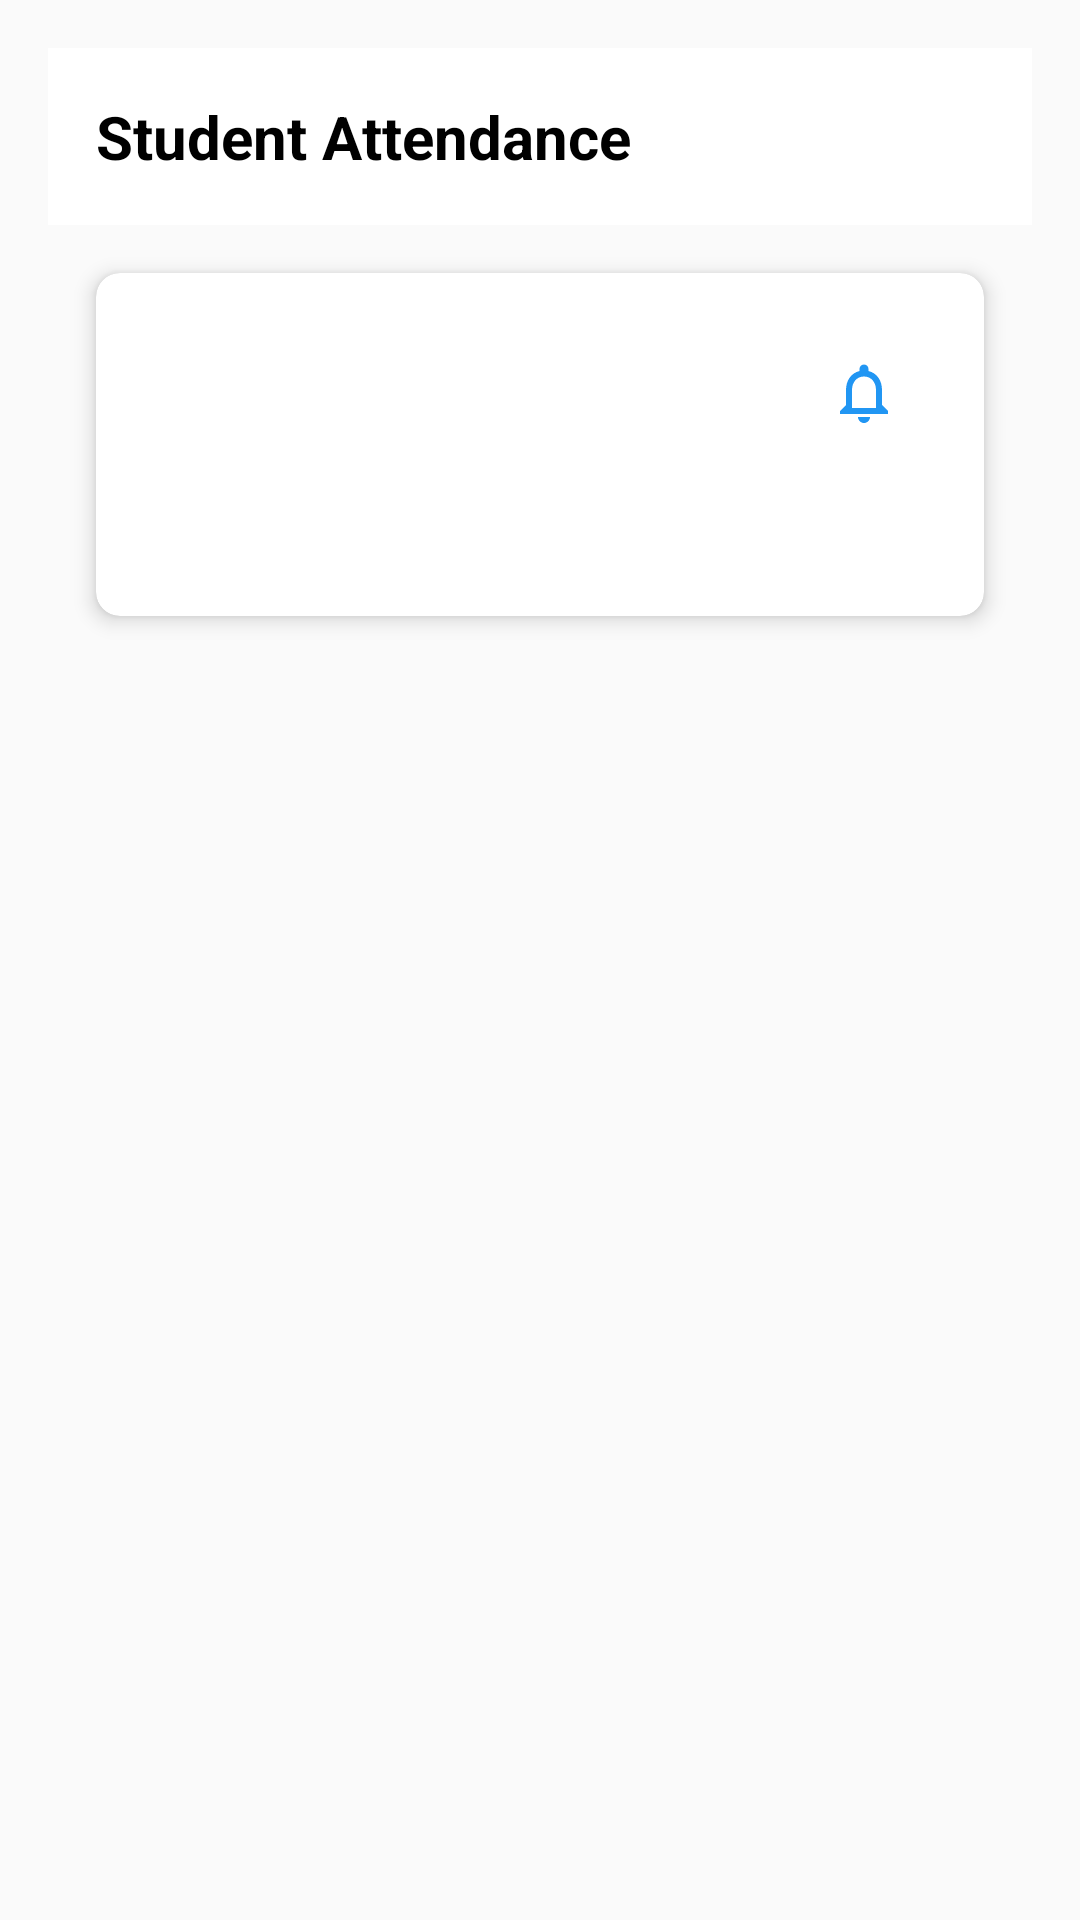

Point at icon controls on the screen. Image size 1080x1920, points as (x,y).
Notify all students: (864,393)
